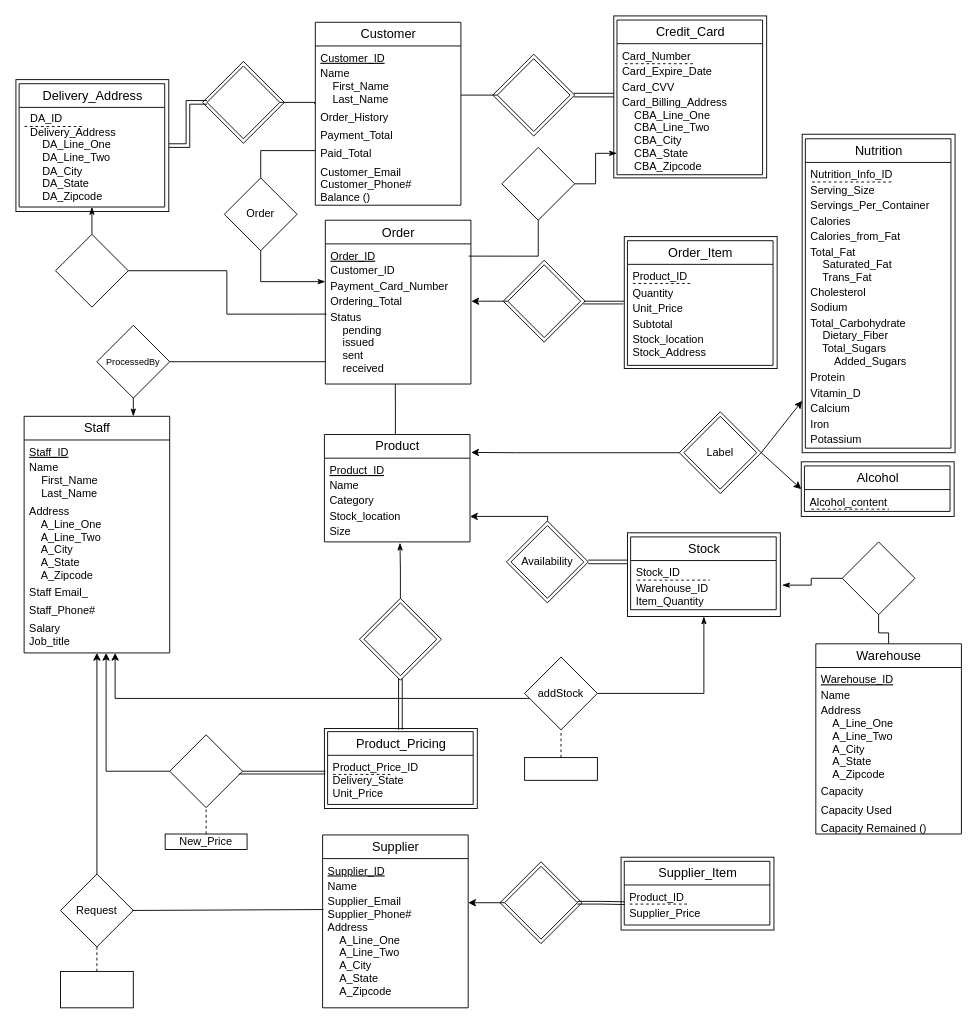
The diagram is 977 pixels wide and 1026 high, and some of its shapes have lost their labels. The centre of each missing label's shape, as x and y in pixels:
"Add_Quantity" belongs at pixel 560 768.
"DeliverTo" belongs at pixel 91 270.
"GetPrice" belongs at pixel 400 639.
"Includes" belongs at pixel 544 301.
"Lives" belongs at pixel 243 102.
"Owns" belongs at pixel 533 94.
"PaidWith" belongs at pixel 538 183.
"Pricing" belongs at pixel 206 771.
"Request_ID Details" belongs at pixel 96 989.
"Stores" belongs at pixel 878 578.
"Supplies" belongs at pixel 540 902.
